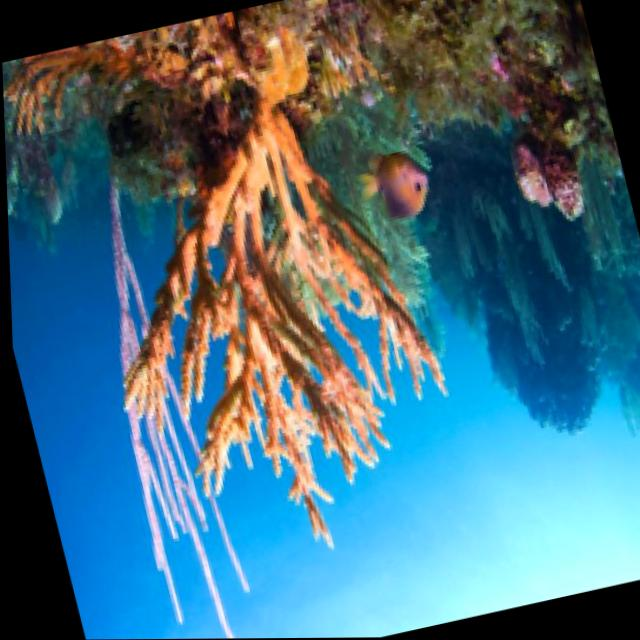Dead Coral: (368, 0, 598, 155)
